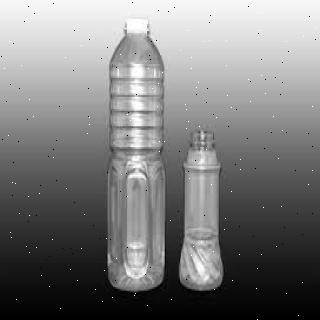Plastic-bottle: (105, 17, 172, 295), (179, 127, 227, 297)
